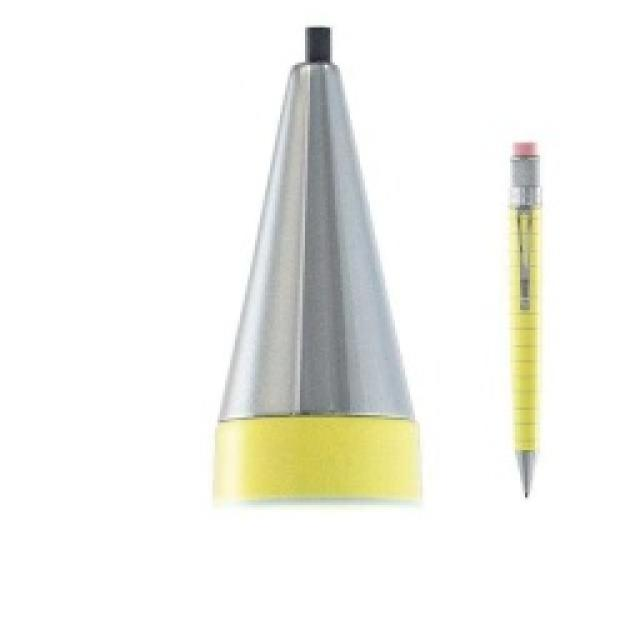pencil: (210, 23, 425, 505)
